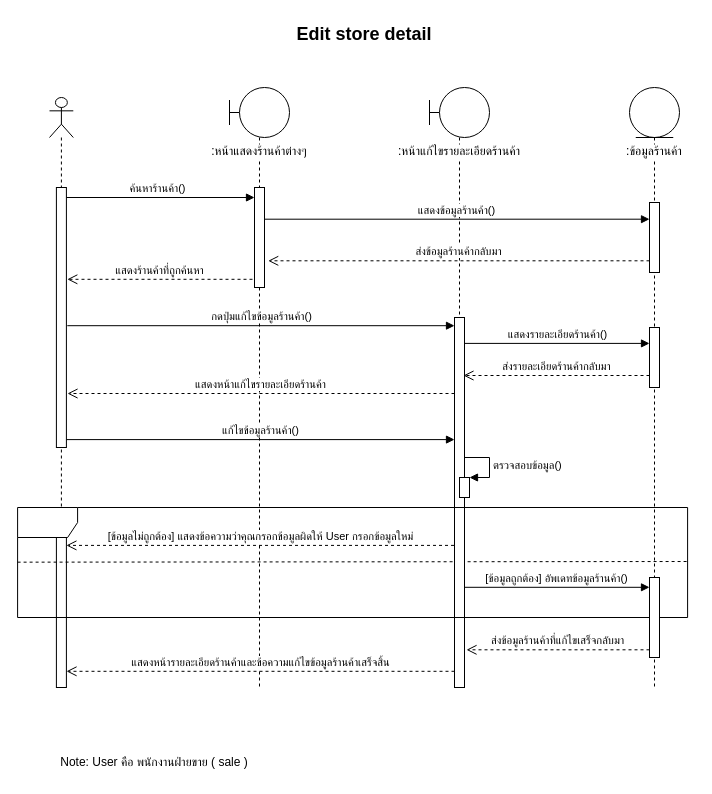
The diagram is 712 pixels wide and 794 high, and some of its shapes have lost their labels. Each missing label, with the box of its shape:
User: (48, 96, 73, 688)
เงื่อนไข: (17, 506, 688, 618)
